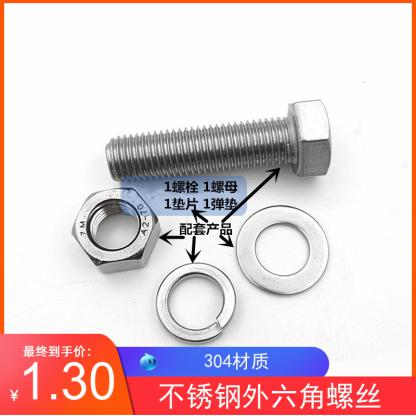FOD: (100, 99, 336, 184), (234, 204, 332, 298), (68, 183, 159, 276), (156, 263, 240, 344)
